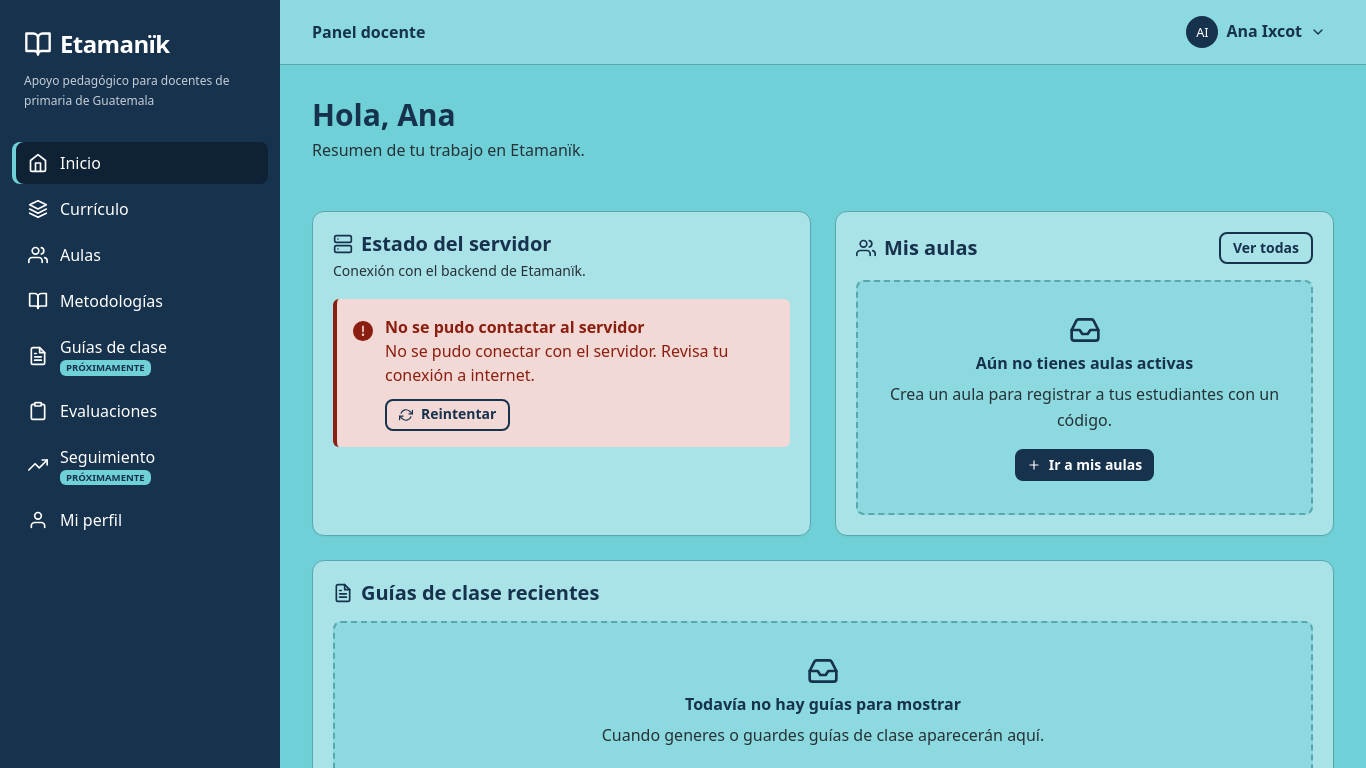
it: Panel (con sesión) › muestra el estado real del servidor y permite reintentar si falla
Check: the text "No se pudo contactar al servidor" is shown, box [385,316,645,338]
Click the button "Reintentar": (448, 415) [385,399,510,431]
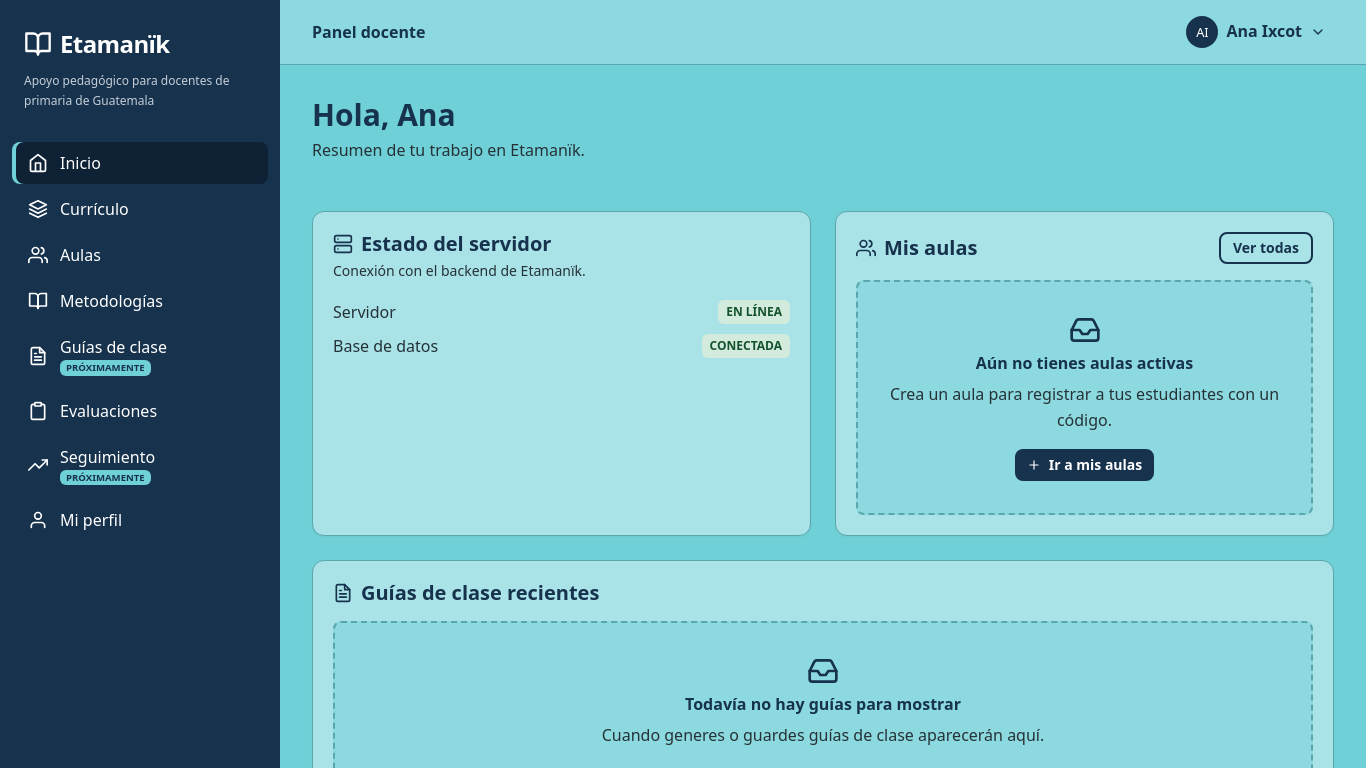
Check: the heading "Aún no tienes aulas activas" is shown, box [976,354,1193,373]
Check: the text "En línea" is shown, box [718,300,790,324]
